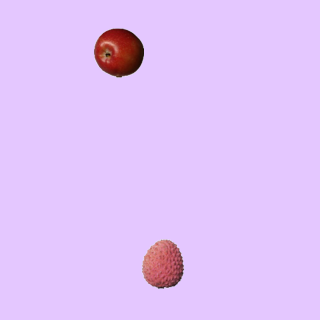Apple Braeburn: (93, 27, 143, 77)
Lychee: (137, 238, 187, 288)
